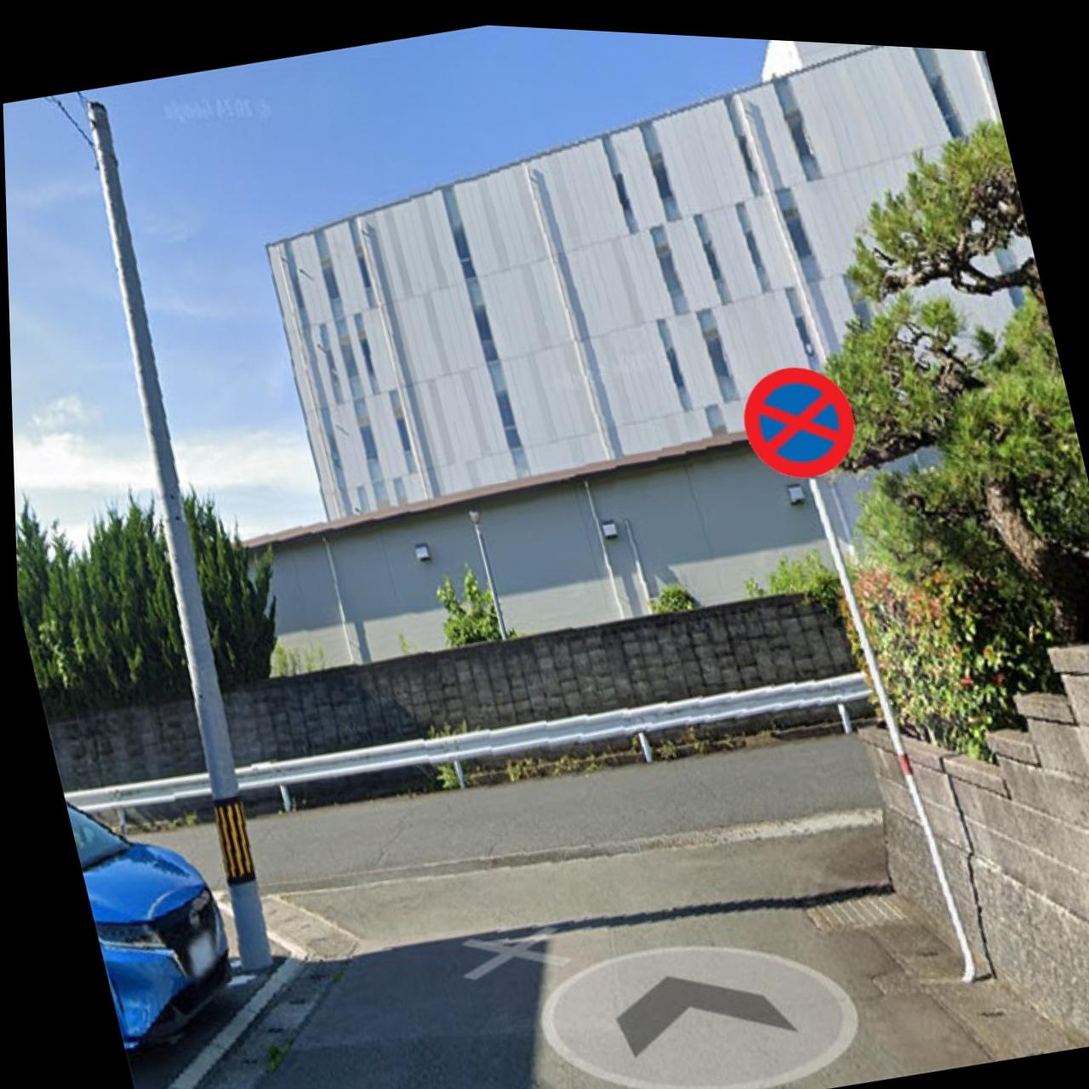stop_sign: (726, 345, 871, 499)
